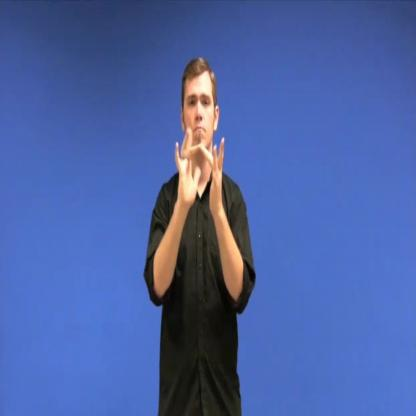Internet: (168, 120, 226, 232)
